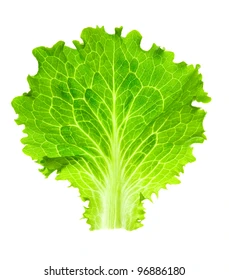lettuce: (22, 11, 210, 244)
